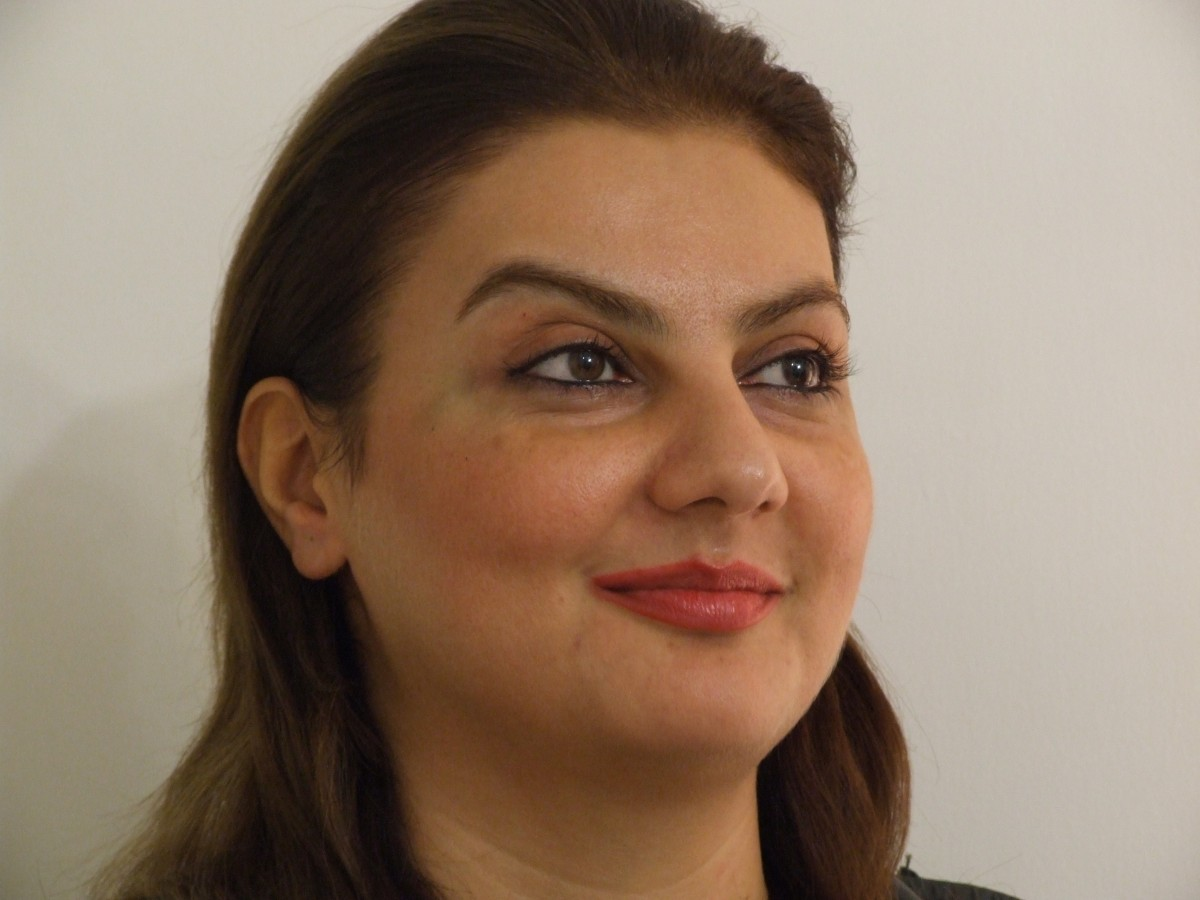neo: (545, 590, 581, 611)
occhiaia: (482, 378, 661, 446), (742, 392, 863, 456)
